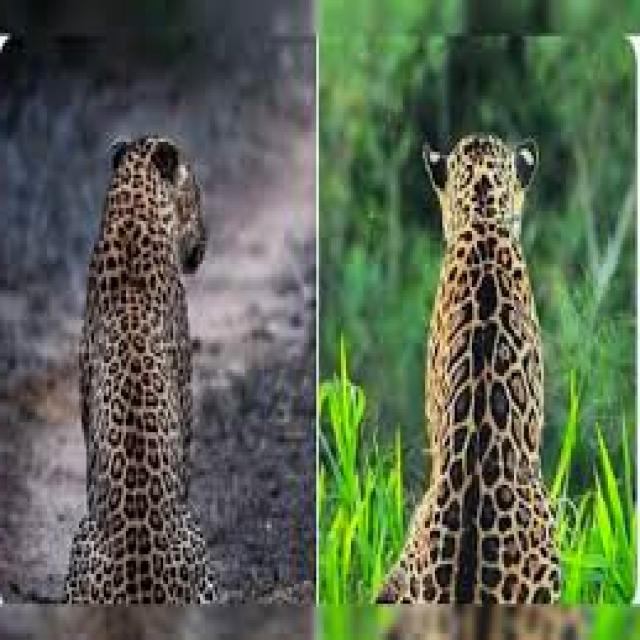leopard: (383, 132, 561, 604), (69, 135, 217, 600)
